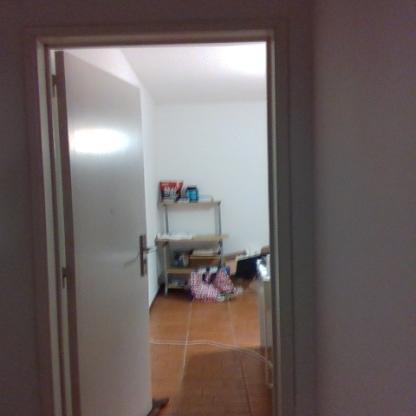open: (14, 11, 336, 414)
